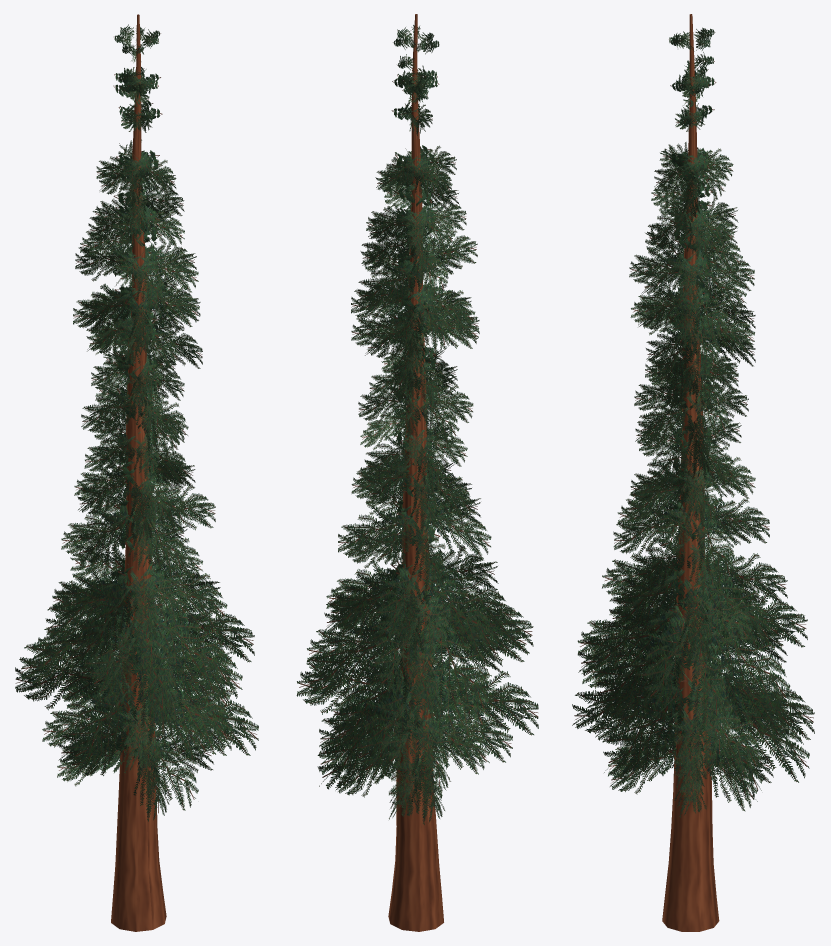
File: veg_redwood_a_mobile.fbx
3 views of the same model, side by side, from view 1: azimuth 30°, elevation 25°; view 2: azimuth 150°, elevation 25°; view 3: azimuth 270°, elevation 25° (orthographic).
Visible parts, largest first — view 1: veg_redwood_a_mobile_LOD0; view 2: veg_redwood_a_mobile_LOD0; view 3: veg_redwood_a_mobile_LOD0.
Part boxes in pixels (x1,y1,x2,y2): veg_redwood_a_mobile_LOD0: (15,14,258,931); veg_redwood_a_mobile_LOD0: (296,14,538,931); veg_redwood_a_mobile_LOD0: (572,14,814,931).
Size of what is drawn, in the model's own units: 8.96 by 36.43 by 9.07.
Materials: 2 (2 with a texture image).
